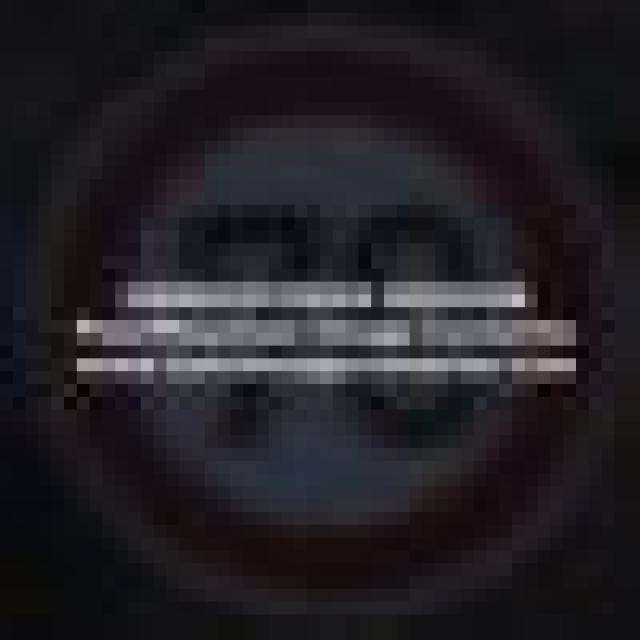SPEED_LIMIT_70: (26, 38, 627, 628)
